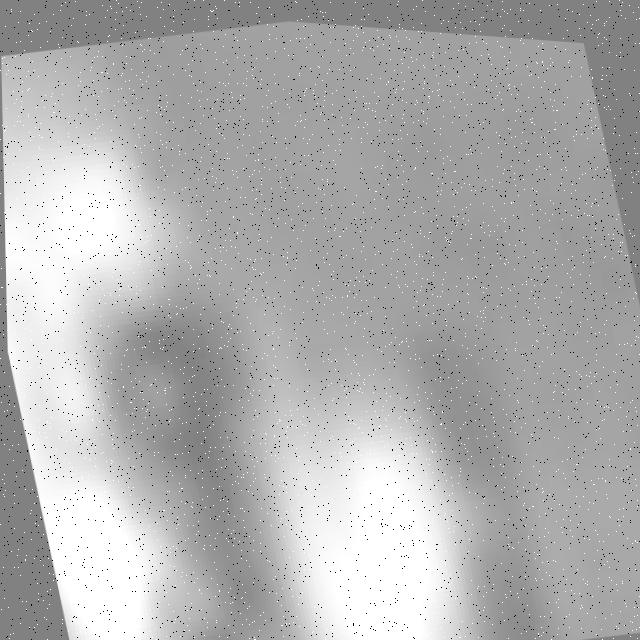person: (2, 34, 250, 640), (224, 294, 518, 640)
